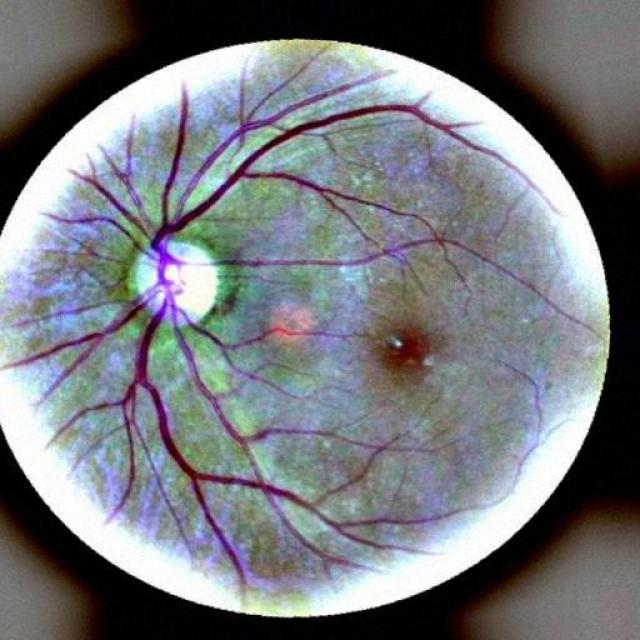Macula: (382, 315, 437, 379)
Nerves: (133, 100, 410, 587)
Optic Disk: (131, 239, 223, 324)
